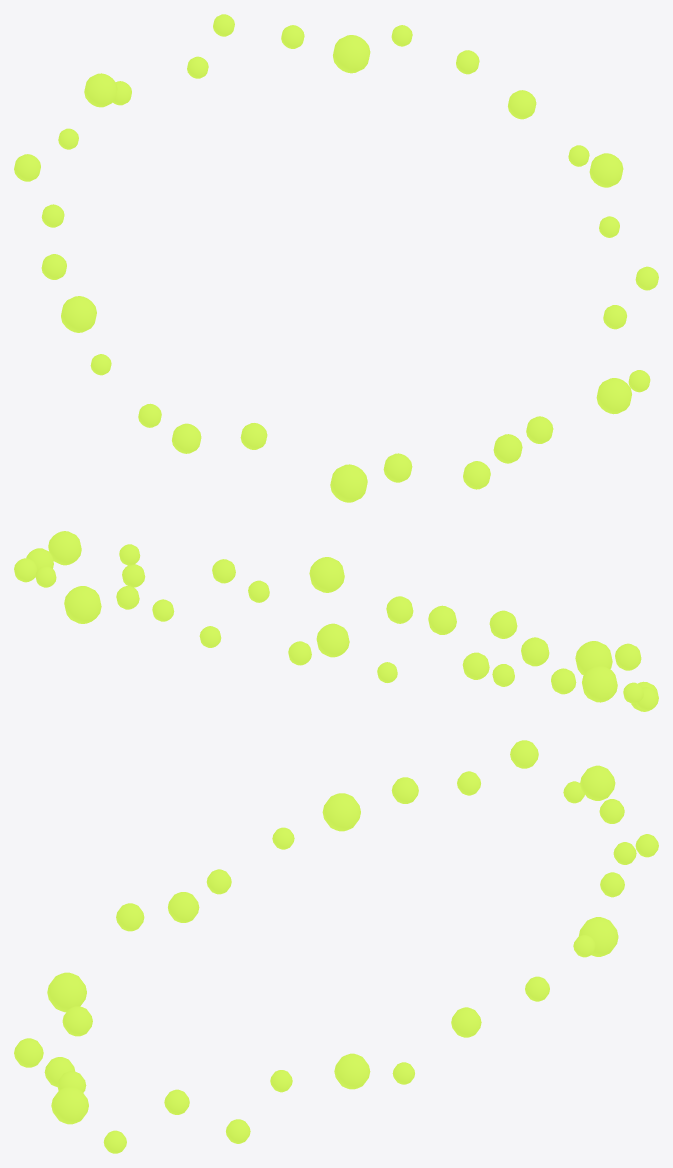
Rendered from orbit_fireflies.glb.
3 views of the same model, one above another, from view 1: azimuth 30°, elevation 25°; view 2: azimuth 150°, elevation 25°; view 3: azimuth 270°, elevation 25° (orthographic). The views are drawn at different scales.
Parts seen in each view (by area): view 1: halo25, halo10, halo15, halo5, halo0, halo20, halo12; view 2: halo25, halo15, halo5, halo0, halo10, halo20, halo7, halo9, halo8, halo6, halo18, halo11 (+16 smaller); view 3: halo10, halo15, halo5, halo25, halo0, halo20, halo12, halo9, halo28, halo8, halo18, halo11.
Part boxes in pixels (x1,y1,x2,y2): halo25: (333, 35, 370, 73); halo10: (330, 464, 367, 502); halo15: (61, 296, 96, 332); halo5: (596, 378, 631, 414); halo0: (589, 153, 623, 187); halo20: (84, 73, 117, 107); halo12: (172, 423, 201, 453); halo25: (64, 586, 101, 623); halo15: (582, 665, 617, 702); halo5: (309, 557, 344, 592); halo0: (48, 531, 81, 565); halo10: (575, 641, 612, 675); halo20: (316, 623, 349, 657); halo7: (428, 605, 456, 634); halo9: (521, 637, 549, 666); halo8: (489, 610, 517, 638); halo6: (386, 596, 413, 623); halo18: (462, 652, 489, 679); halo11: (615, 643, 641, 670); halo10: (47, 972, 86, 1012); halo15: (322, 793, 360, 831); halo5: (51, 1087, 88, 1124); halo25: (578, 917, 618, 956); halo0: (334, 1053, 370, 1089); halo20: (580, 765, 615, 800); halo12: (168, 892, 199, 922); halo9: (62, 1006, 92, 1036); halo28: (451, 1007, 481, 1037); halo8: (14, 1038, 43, 1067); halo18: (510, 740, 538, 768); halo11: (116, 903, 144, 931).
Size of the model in its own units: 2.98 by 1.24 by 2.85.
